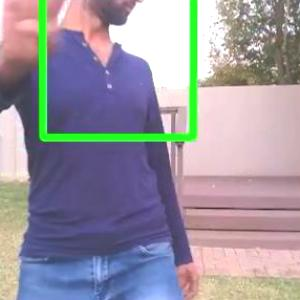takeoff-hand: (0, 0, 76, 73)
